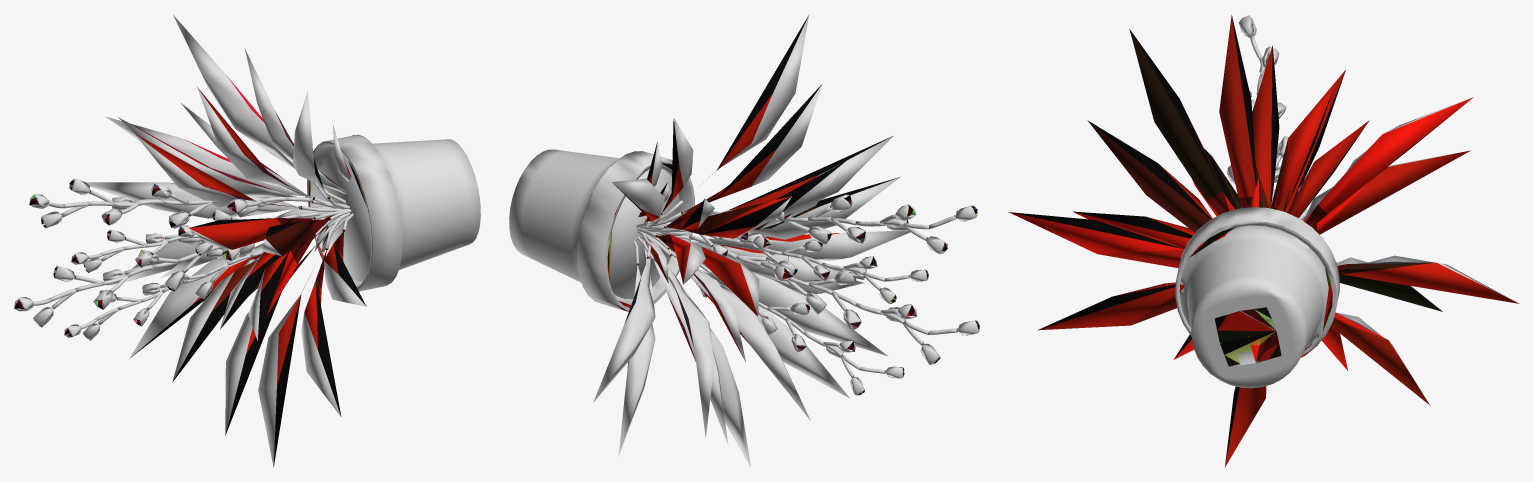
The picture shows the model from 3 angles, left to right: view 1: azimuth 30°, elevation 25°; view 2: azimuth 150°, elevation 25°; view 3: azimuth 270°, elevation 25°; orthographic projection. The views are drawn at different scales.
Size of the model in its own units: 1.6 by 1.44 by 1.54.
